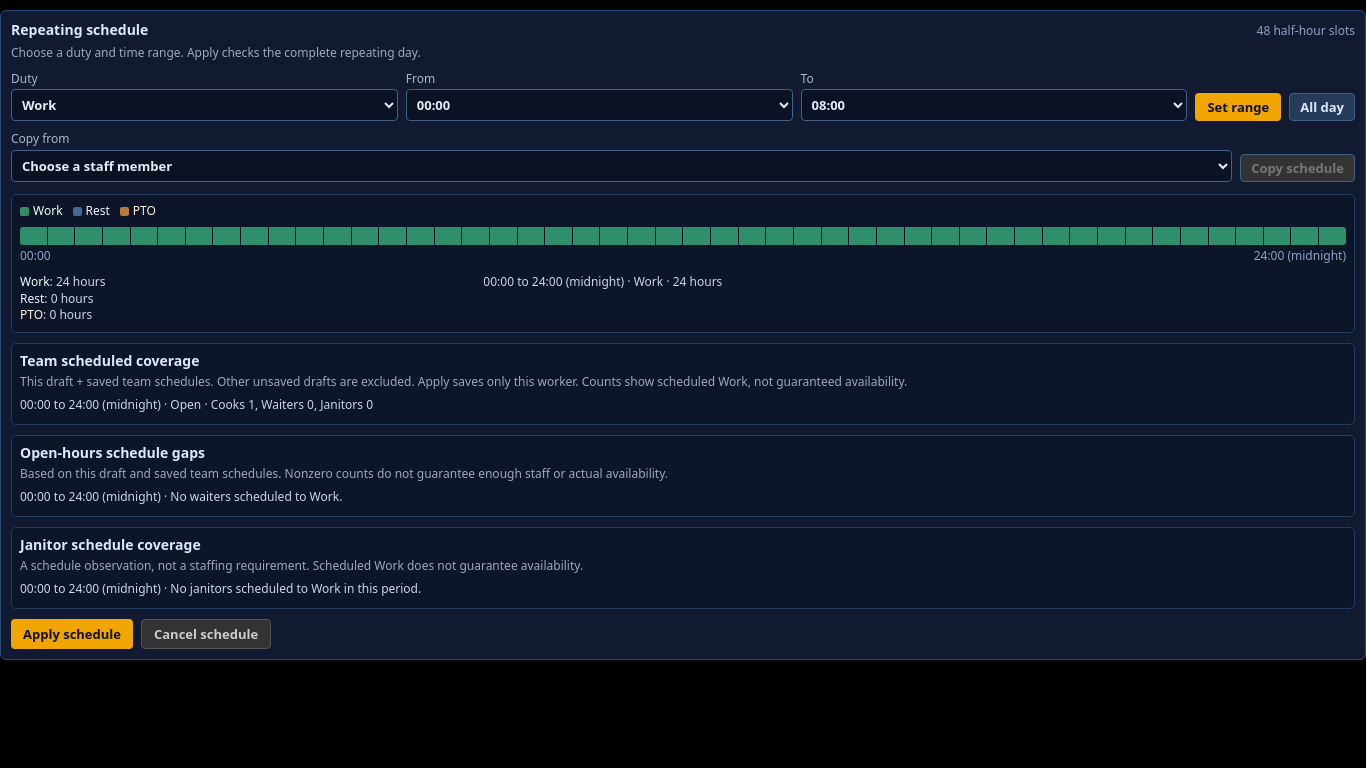
Scenario: StaffScheduleEditor › refreshes coverage when a saved teammate schedule is copied
expect the list named "Team coverage preview" shows "Cooks 1, Waiters 0": met, box [20,396,373,413]
Select "Anna" in the dropdown labelled "Copy from": (622, 166) [11,150,1232,182]
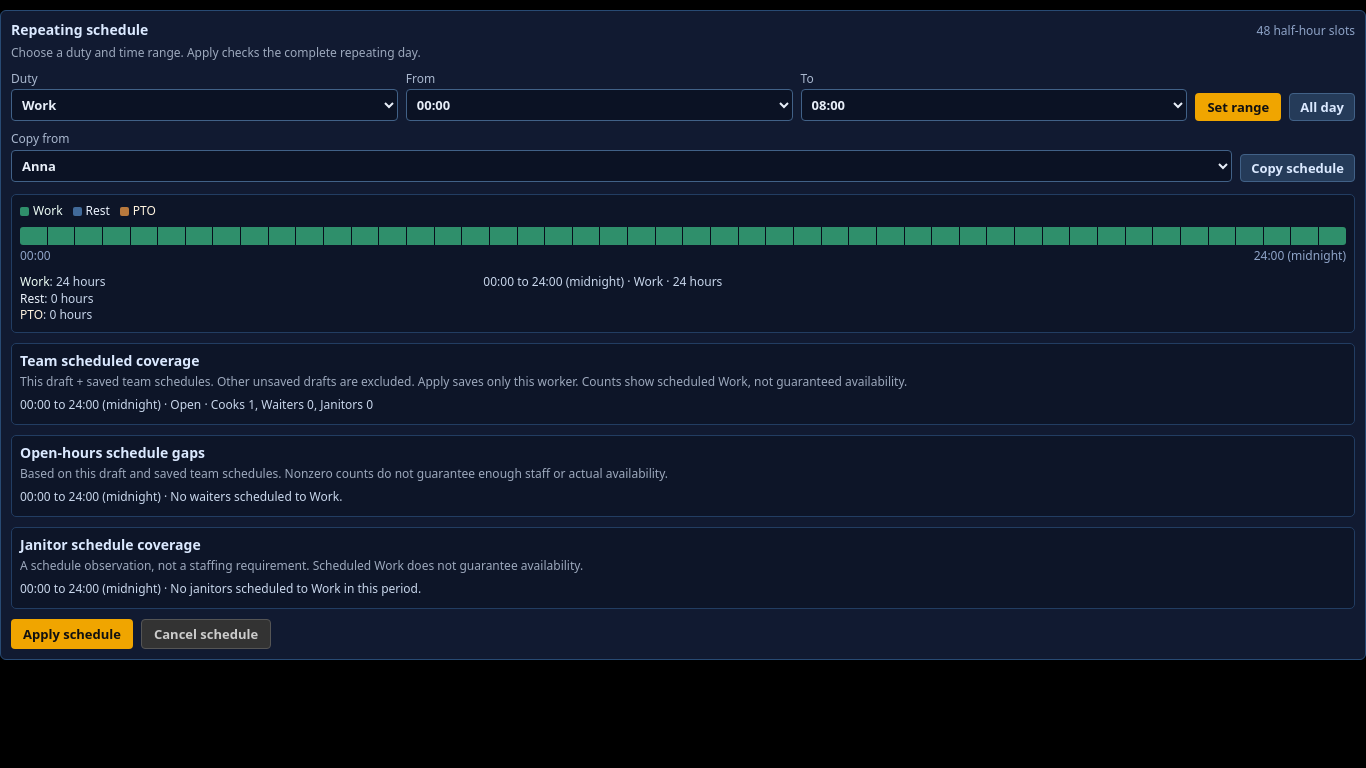
Click the button "Copy schedule": (1298, 168) [1240,154,1355,182]
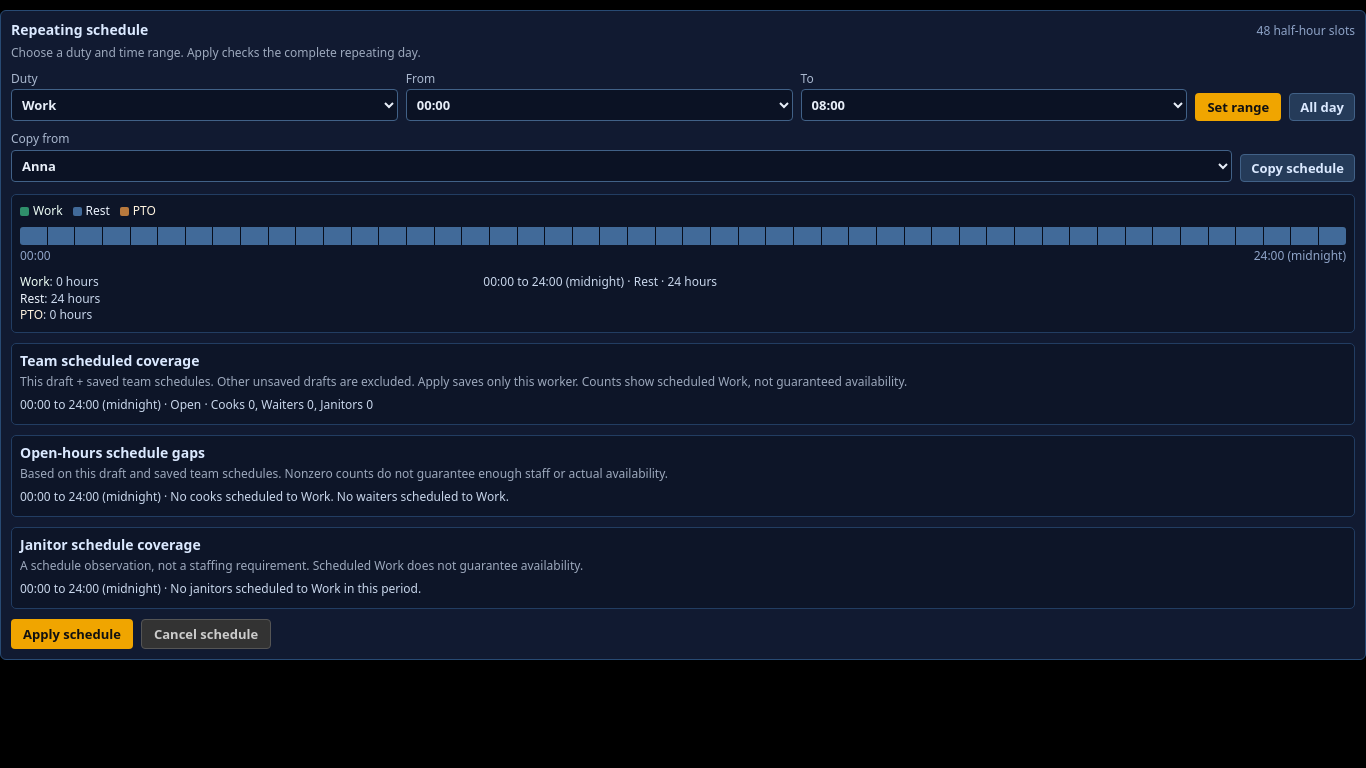
expect the list named "Team coverage preview" shows "Cooks 0, Waiters 0": met, box [20,396,373,413]
